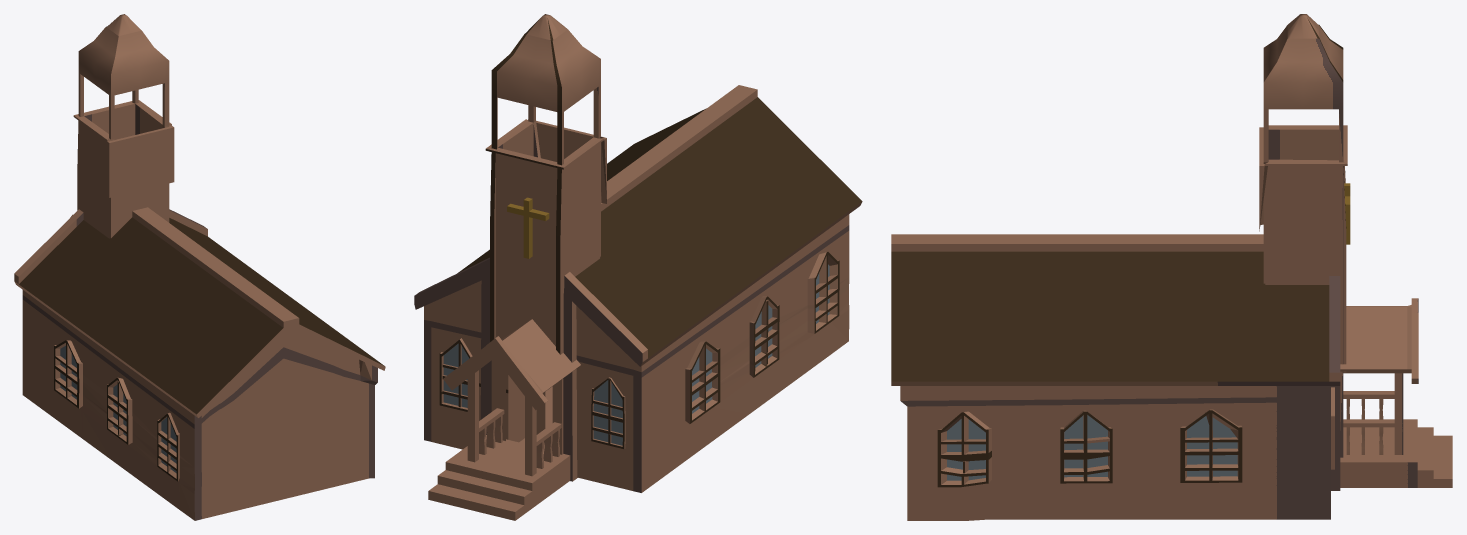
The model's file is Church.fbx.
3 views of the same model, side by side, from view 1: azimuth 30°, elevation 25°; view 2: azimuth 150°, elevation 25°; view 3: azimuth 270°, elevation 25° (orthographic). The views are drawn at different scales.
Visible parts, largest first — view 1: pCube61, pCube62, pCube63; view 2: pCube62, pCube61, pCube63, pCube68, pCube66, pCube70, pCube69, pCube64, pCube65, pCube71; view 3: pCube62, pCube61, pCube63, pCube68, pCube67, pCube70, pCube69.
Boxes of the visible parts, bbox=[...] form: pCube61: bbox=[22, 290, 377, 520]; pCube62: bbox=[14, 207, 385, 417]; pCube63: bbox=[73, 14, 174, 238]; pCube62: bbox=[414, 85, 862, 481]; pCube61: bbox=[424, 214, 849, 492]; pCube63: bbox=[485, 14, 606, 454]; pCube68: bbox=[428, 435, 570, 520]; pCube66: bbox=[502, 319, 580, 393]; pCube70: bbox=[467, 370, 504, 462]; pCube69: bbox=[525, 397, 561, 476]; pCube64: bbox=[486, 336, 547, 410]; pCube65: bbox=[443, 336, 507, 390]; pCube71: bbox=[523, 197, 532, 258]; pCube62: bbox=[891, 234, 1340, 490]; pCube61: bbox=[900, 386, 1334, 520]; pCube63: bbox=[1259, 14, 1347, 457]; pCube68: bbox=[1340, 419, 1452, 487]; pCube67: bbox=[1340, 306, 1411, 373]; pCube70: bbox=[1343, 373, 1403, 454]; pCube69: bbox=[1343, 391, 1394, 419].
Bounding box in the file's own units: 12.16 × 22.46 × 25.29.
2 materials, 1 textured.
